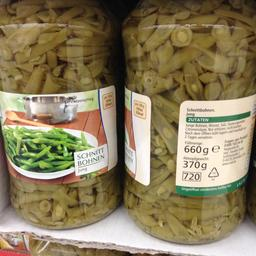beans: (120, 1, 251, 247), (0, 0, 119, 231)
